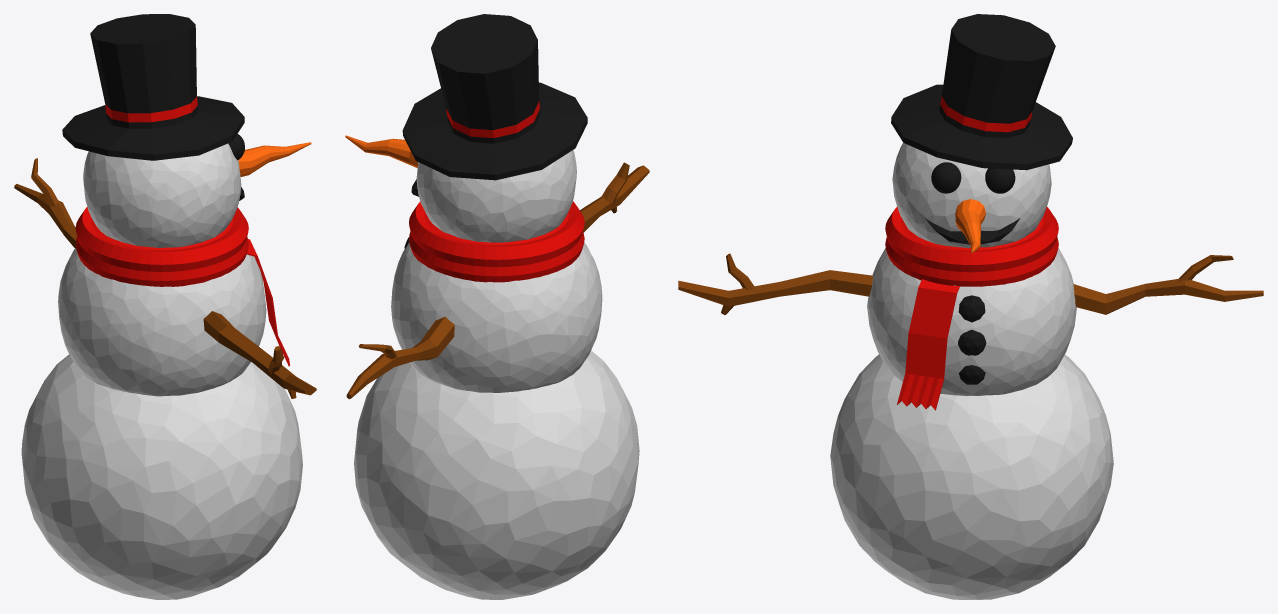
Rendered from snowman_-_low_poly.glb.
3 views of the same model, side by side, from view 1: azimuth 30°, elevation 25°; view 2: azimuth 150°, elevation 25°; view 3: azimuth 270°, elevation 25° (orthographic).
Visible parts, largest first — view 1: Icosphere, Icosphere.001, Cylinder.001, Icosphere.002, Torus, Cylinder.002, Cylinder.003, Cylinder, Cube; view 2: Icosphere, Icosphere.001, Cylinder.001, Icosphere.002, Torus, Cylinder.003, Cylinder.002, Cylinder; view 3: Icosphere, Cylinder.001, Icosphere.001, Icosphere.002, Torus, Cube, Cylinder.002, Cylinder.003, Cylinder, Icosphere.008, Icosphere.006.
Boxes of the visible parts, x1=… form: Icosphere: x1=21, y1=354, x2=302, y2=599; Icosphere.001: x1=58, y1=247, x2=266, y2=396; Cylinder.001: x1=62, y1=14, x2=244, y2=160; Icosphere.002: x1=83, y1=143, x2=241, y2=247; Torus: x1=75, y1=207, x2=248, y2=286; Cylinder.002: x1=203, y1=311, x2=316, y2=398; Cylinder.003: x1=14, y1=158, x2=77, y2=247; Cylinder: x1=238, y1=142, x2=311, y2=176; Cube: x1=246, y1=239, x2=289, y2=366; Icosphere: x1=354, y1=351, x2=639, y2=599; Icosphere.001: x1=391, y1=242, x2=602, y2=392; Cylinder.001: x1=402, y1=14, x2=587, y2=180; Icosphere.002: x1=416, y1=150, x2=576, y2=242; Torus: x1=409, y1=201, x2=584, y2=282; Cylinder.003: x1=346, y1=316, x2=454, y2=399; Cylinder.002: x1=580, y1=162, x2=649, y2=232; Cylinder: x1=345, y1=135, x2=417, y2=168; Icosphere: x1=830, y1=354, x2=1113, y2=599; Cylinder.001: x1=891, y1=14, x2=1072, y2=170; Icosphere.001: x1=867, y1=248, x2=1076, y2=395; Icosphere.002: x1=892, y1=143, x2=1051, y2=248; Torus: x1=885, y1=207, x2=1058, y2=286; Cube: x1=897, y1=279, x2=959, y2=410; Cylinder.002: x1=678, y1=253, x2=873, y2=314; Cylinder.003: x1=1073, y1=255, x2=1263, y2=314; Cylinder: x1=955, y1=199, x2=985, y2=252; Icosphere.008: x1=925, y1=218, x2=1019, y2=244; Icosphere.006: x1=931, y1=162, x2=961, y2=193.
Size of the model in its own units: 0.6461 by 1.27 by 1.21.
